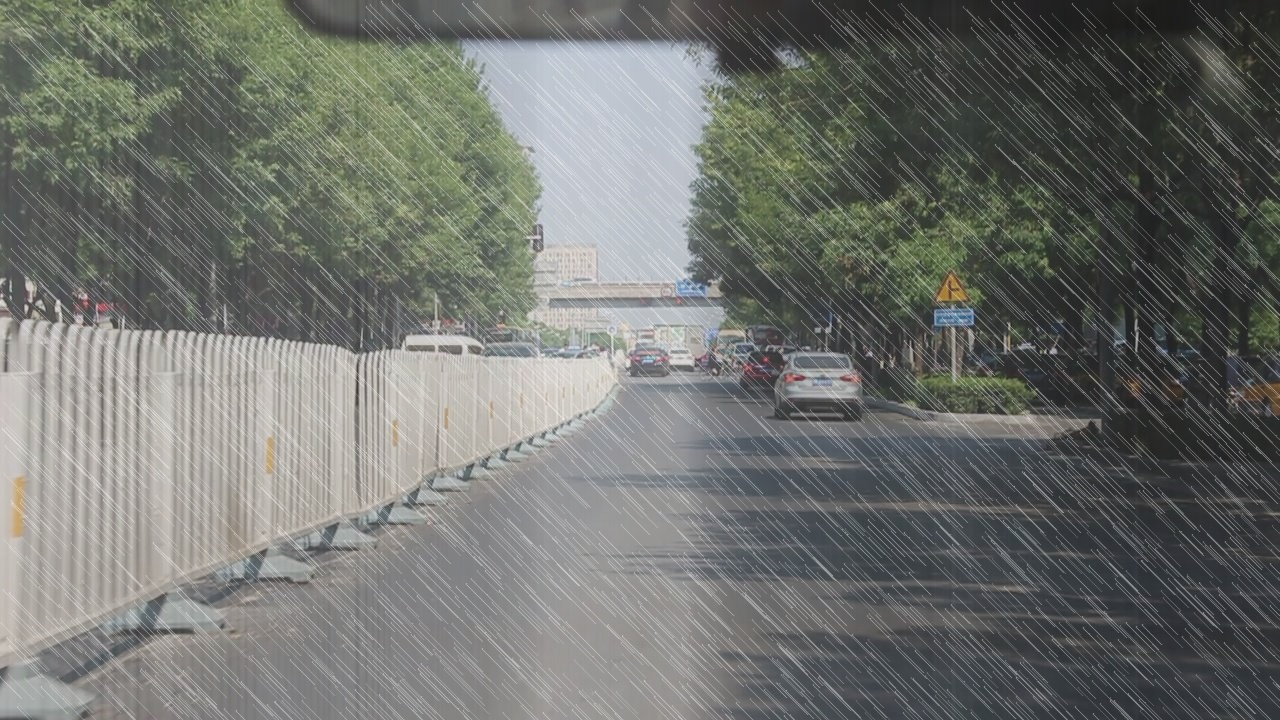Warning Signs: (932, 269, 971, 306)
